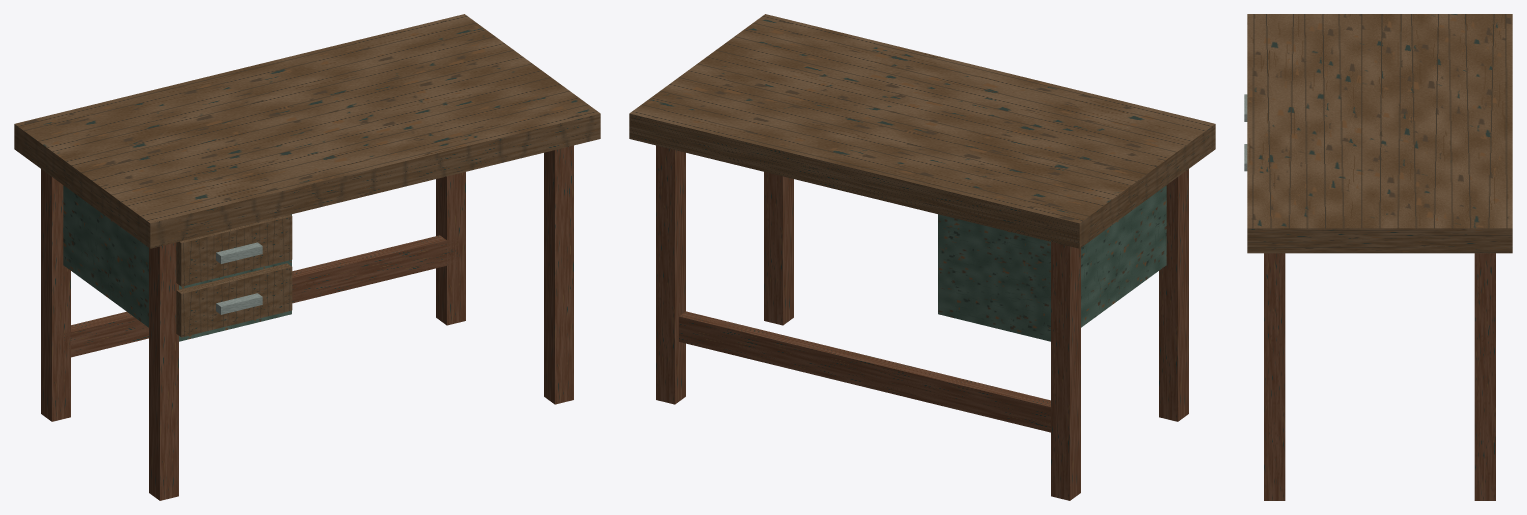
The model's file is Desk.glb.
The picture shows the model from 3 angles, left to right: view 1: azimuth 30°, elevation 25°; view 2: azimuth 150°, elevation 25°; view 3: azimuth 270°, elevation 25°; orthographic projection. The views are drawn at different scales.
Parts seen in each view (by area): view 1: Desk; view 2: Desk; view 3: Desk.
Boxes of the visible parts, x1,y1,x2,y2 form: Desk: (14,14,600,500); Desk: (629,14,1215,500); Desk: (1244,14,1512,500).
Size of the model in its own units: 1.3 by 0.795 by 0.6875.
Materials: 4 (4 with a texture image).
